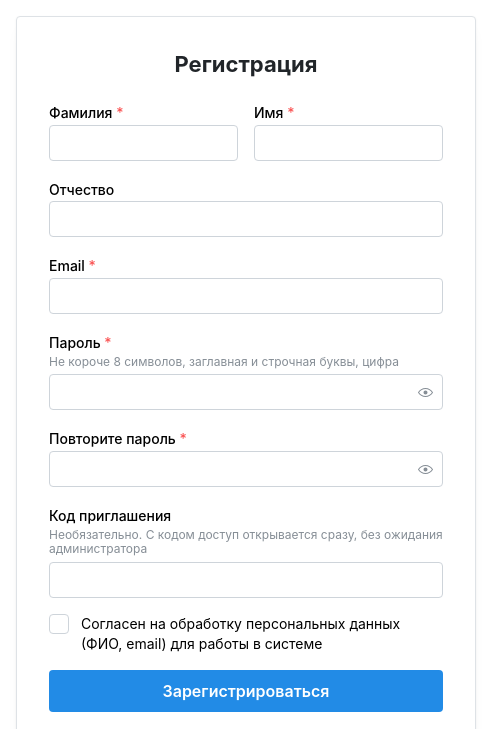
Scenario: RegisterPage › 409/422 → показывает сообщение сервера
The width and height of the screenshot is (493, 729).
Type "Петров" into the field labelled "Фамилия *" at (144, 143), box [49,125,238,161]
Type "Иван" into the field labelled "Имя *" at (348, 143), box [254,125,443,161]
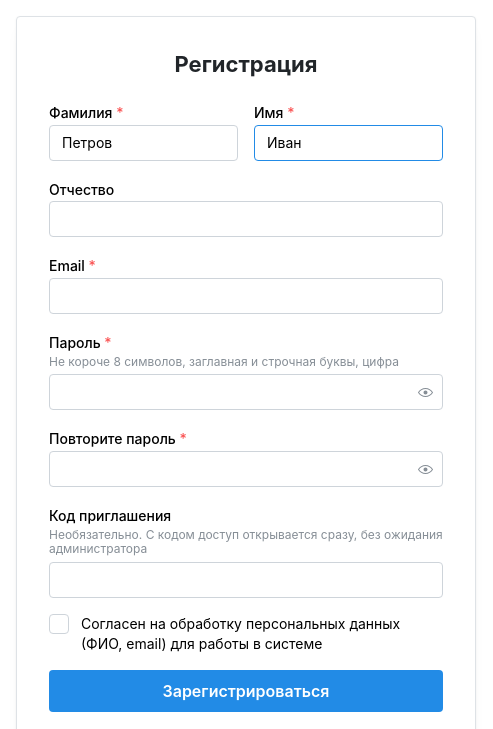
Type "ivan@scoodle.local" into the field labelled "Email *" at (246, 296), box [49,278,443,314]
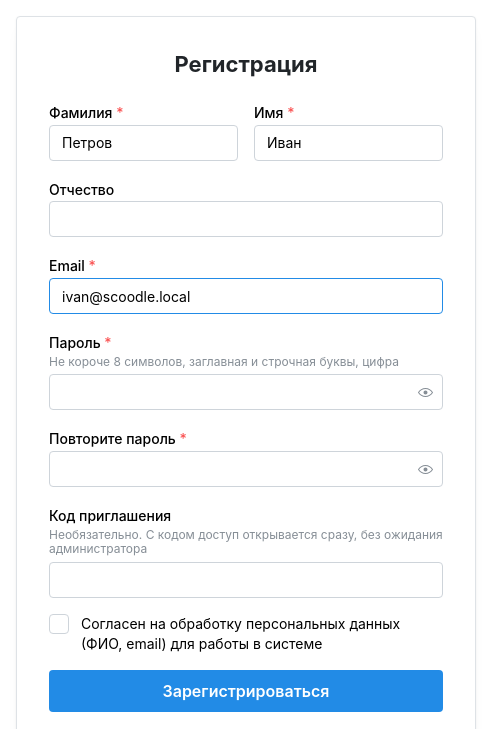
Type "Password1" into the password field labelled "Пароль *" at (246, 392), box [50,375,442,409]
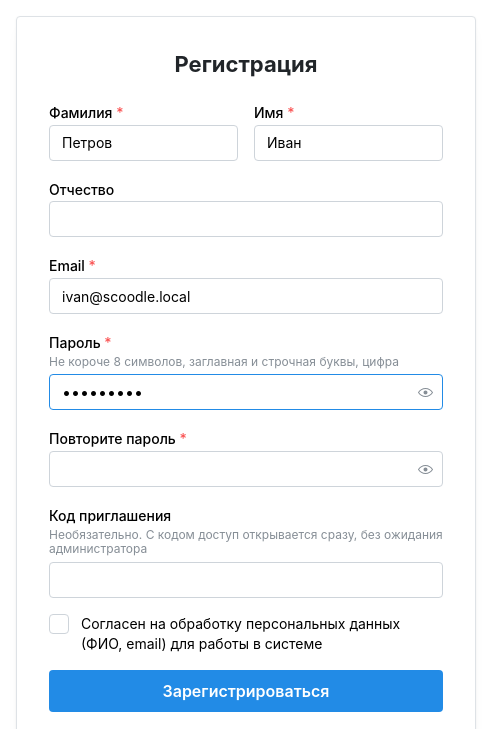
Type "Password1" into the password field labelled "Повторите пароль *" at (246, 469), box [50,452,442,486]
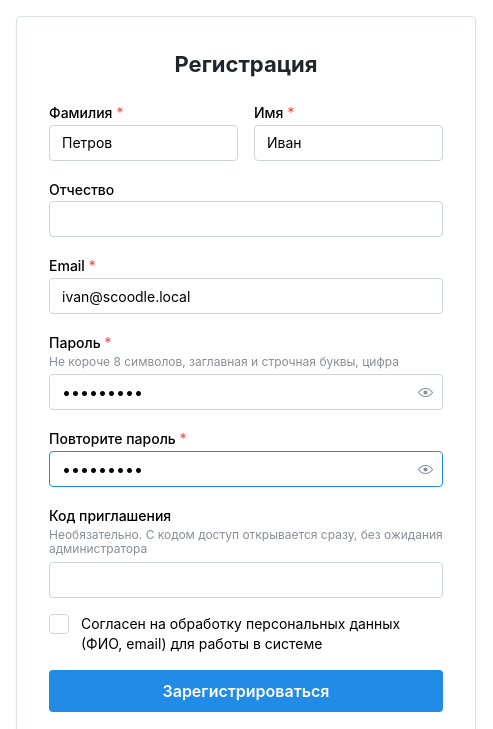
Click the checkbox at (59, 624), box [49,614,69,634]
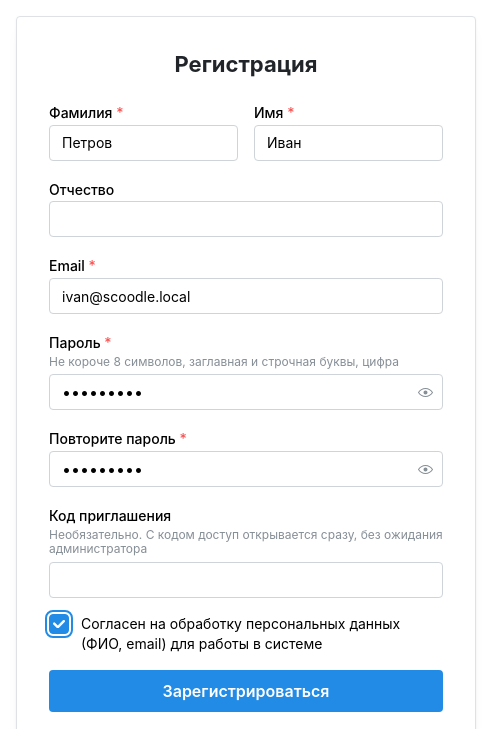
Click the button "Зарегистрироваться" at (246, 691), box [49,670,443,712]
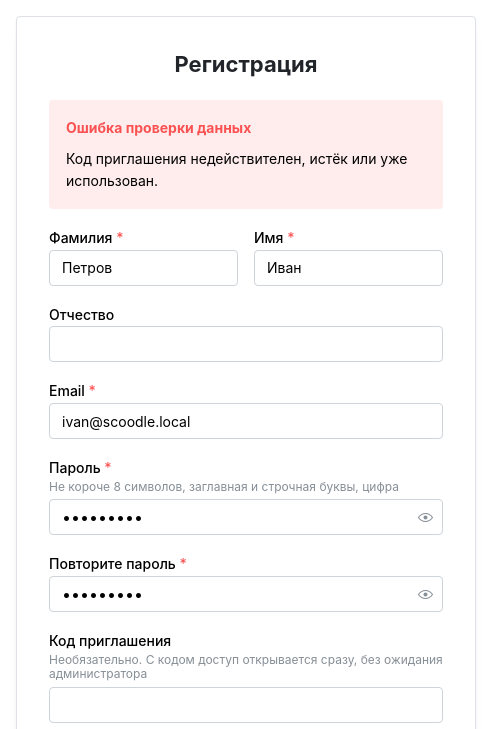
Now the text "Код приглашения недействителен, истёк или уже использован." is shown, box [66,148,426,192]
